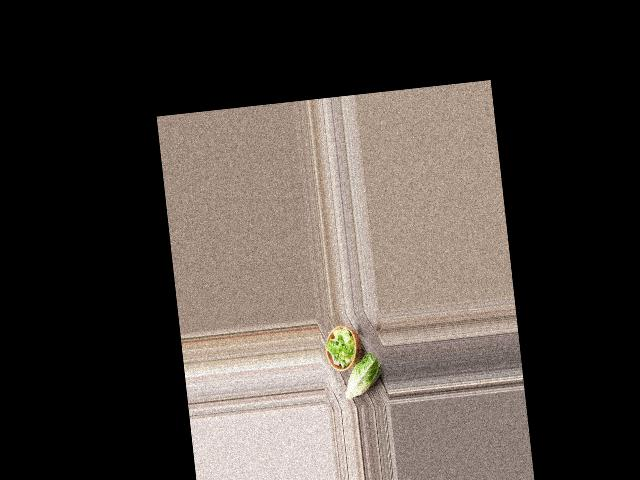lettuce: (341, 352, 385, 398)
